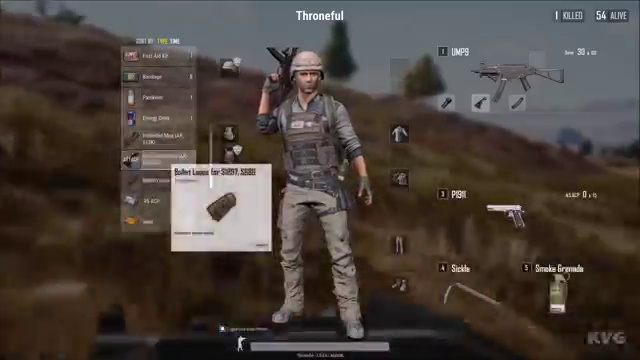Player: (263, 46, 373, 311)
